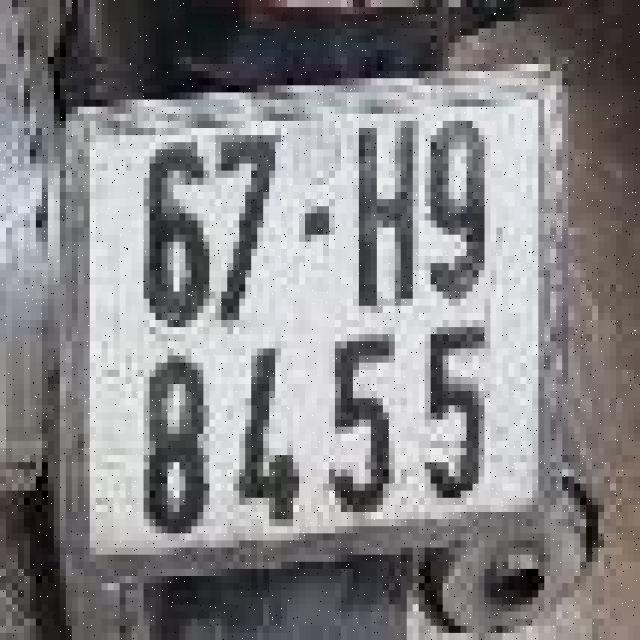4: (233, 327, 311, 519)
5: (413, 316, 502, 516), (317, 323, 401, 530)
6: (137, 128, 215, 334)
7: (209, 121, 287, 320)
8: (140, 345, 218, 537)
9: (424, 96, 496, 316)
H: (353, 103, 419, 309)
